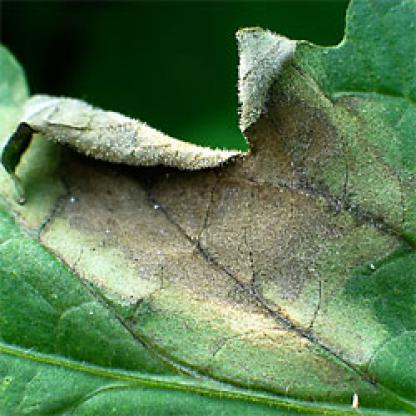tomato leaf late blight: (7, 25, 414, 414)
